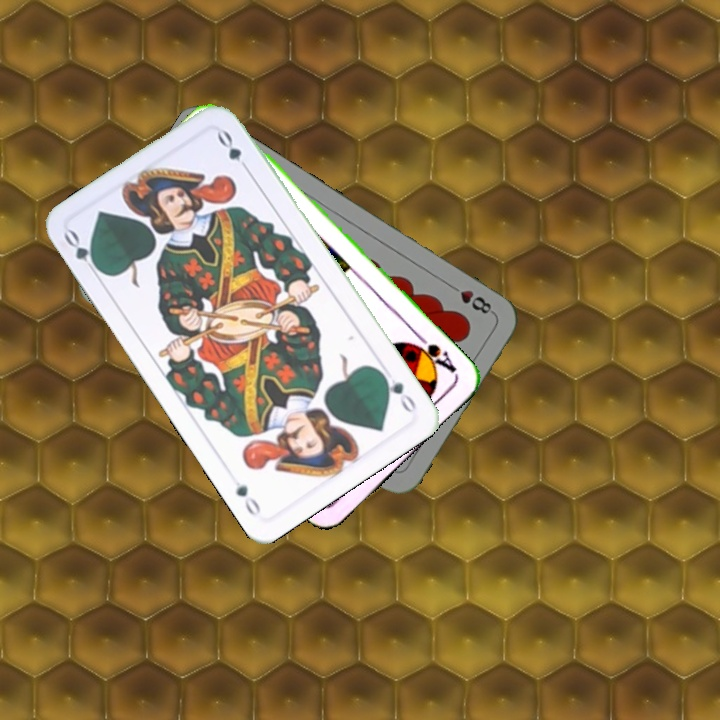GO: (59, 226, 105, 279), (376, 367, 419, 416)
H8: (444, 280, 497, 317)
SA: (407, 330, 459, 376)
